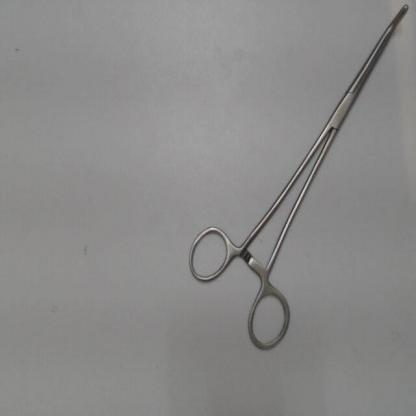Lahey Forceps: (181, 1, 414, 366)
